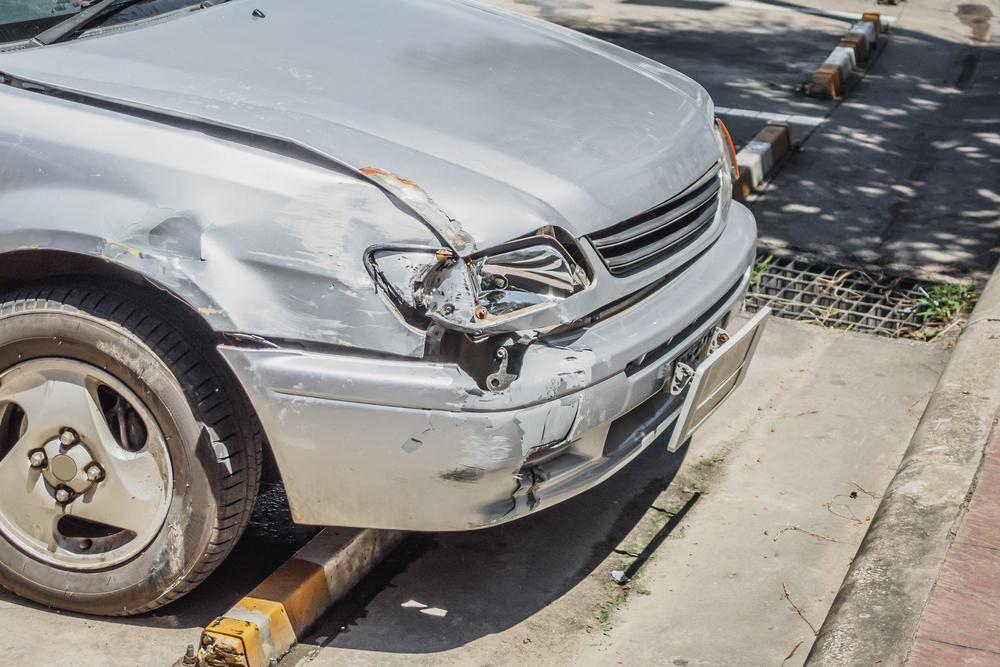crack: (500, 401, 581, 519)
dent: (121, 184, 443, 345)
lamp broken: (362, 243, 578, 320)
scratch: (440, 373, 579, 490), (361, 165, 481, 256)
